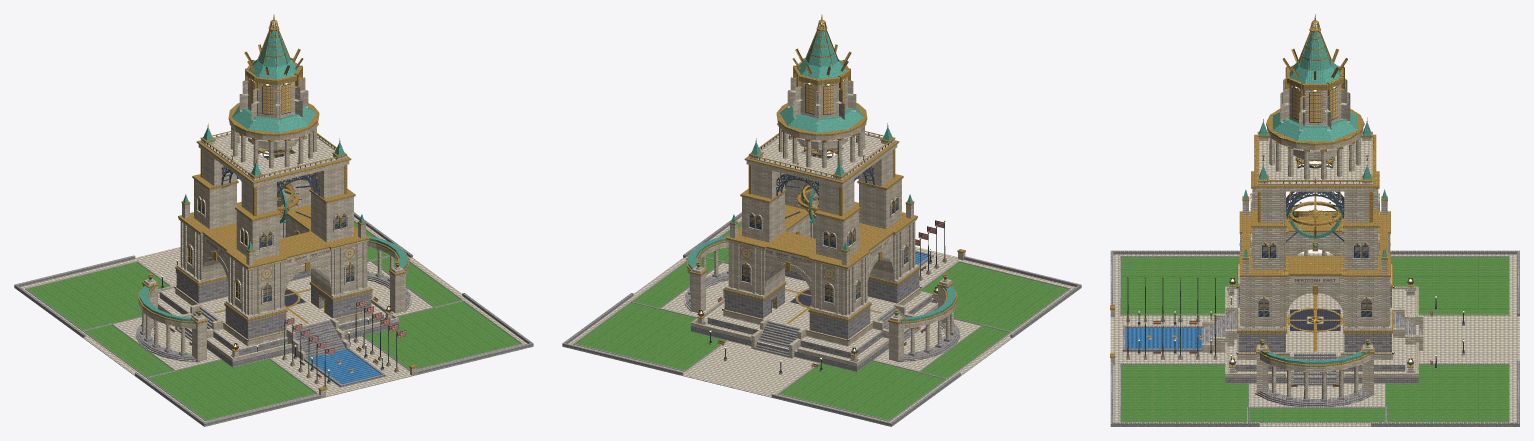
The model's file is great-meridian-monument.glb.
The picture shows the model from 3 angles, left to right: view 1: azimuth 30°, elevation 25°; view 2: azimuth 150°, elevation 25°; view 3: azimuth 270°, elevation 25°; orthographic projection. The views are drawn at different scales.
Parts seen in each view (by area): view 1: structure, lot_ground, lot_peristyles, floor_observation_deck, floor_rotunda_plaza, armillary_sphere; view 2: structure, lot_ground, lot_peristyles, floor_rotunda_plaza, floor_observation_deck, armillary_sphere; view 3: lot_ground, structure, lot_peristyles, floor_rotunda_plaza, floor_observation_deck, armillary_sphere.
Part boxes in pixels (x1,y1,x2,y2): structure: [158, 15, 398, 367]; lot_ground: [14, 212, 533, 426]; lot_peristyles: [135, 236, 412, 362]; floor_observation_deck: [208, 134, 335, 176]; floor_rotunda_plaza: [176, 276, 363, 339]; armillary_sphere: [277, 180, 301, 223]; structure: [691, 15, 937, 371]; lot_ground: [562, 212, 1081, 426]; lot_peristyles: [683, 236, 960, 362]; floor_rotunda_plaza: [724, 276, 919, 339]; floor_observation_deck: [760, 134, 887, 176]; armillary_sphere: [794, 180, 818, 223]; lot_ground: [1110, 250, 1519, 426]; structure: [1202, 14, 1423, 385]; lot_peristyles: [1255, 250, 1375, 406]; floor_rotunda_plaza: [1237, 288, 1392, 353]; floor_observation_deck: [1259, 137, 1371, 183]; armillary_sphere: [1288, 192, 1341, 247].
Size of what is drawn, in the model's own units: 120 by 106 by 120.
12 materials, 12 textured.
